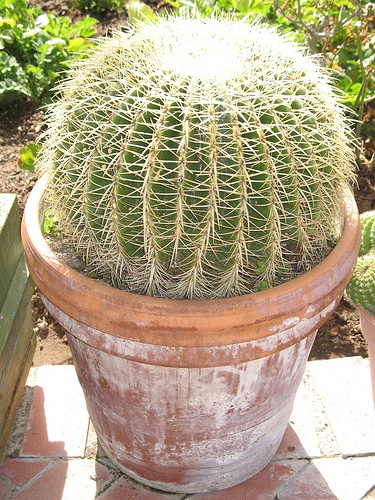flowerpot: (19, 172, 362, 497)
